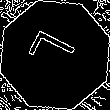L_SE: (25, 30, 85, 80)
